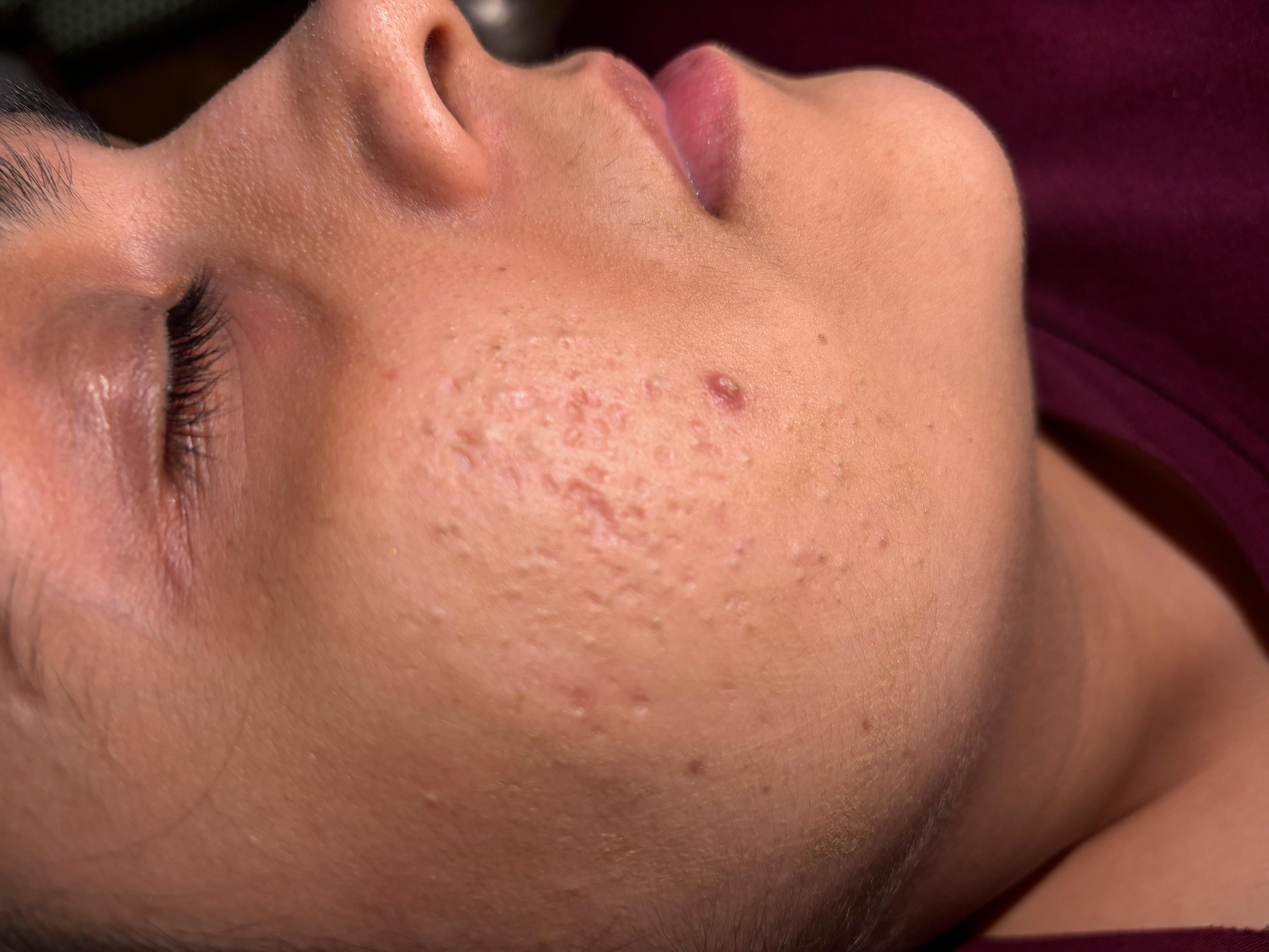closed_comedone: (189, 180, 251, 213)
macrocomedone: (489, 384, 538, 415), (464, 418, 503, 452)
nodule: (701, 370, 762, 411)
open_comedone: (644, 604, 671, 639), (726, 534, 759, 556), (819, 490, 838, 508), (740, 451, 756, 467)
